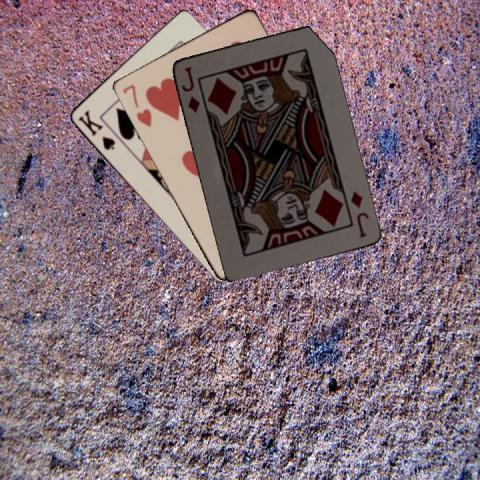7h: (118, 81, 152, 128)
Jd: (178, 63, 201, 114), (347, 187, 369, 239)
Ks: (75, 107, 116, 152)
